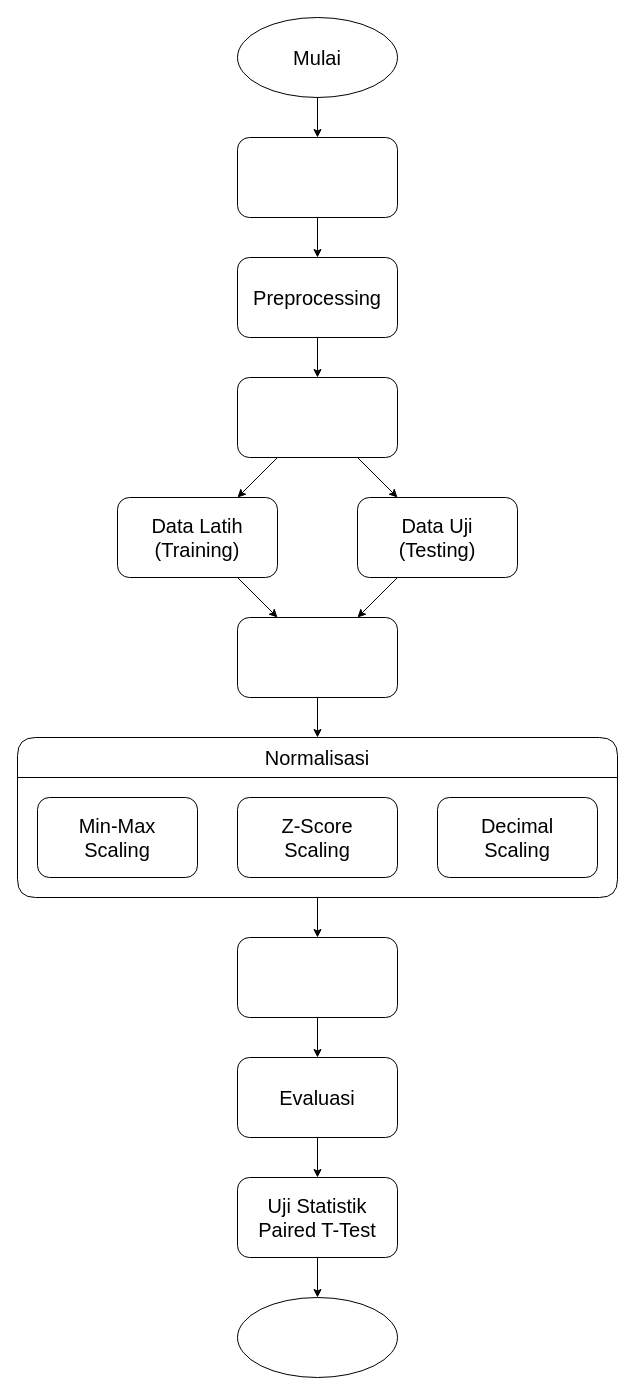
Some shapes in this 635 by 1395 pixel diagram are drawn without their labels. Each missing label, with the box of its shape:
Model K-NN: (236, 936, 398, 1018)
Pembagian Data: (236, 376, 398, 458)
Pemilihan Fitur: (236, 616, 398, 698)
Pengumpulan Data: (236, 136, 398, 218)
Selesai: (236, 1296, 398, 1378)
